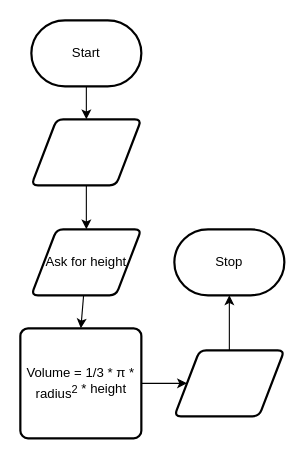
The diagram is 304 pixels wide and 458 high, and some of its shapes have lost their labels. The centre of each missing label's shape, as x and y in pixels:
"Ask for radius" belongs at point (86, 152).
"Show volume" belongs at point (229, 383).
